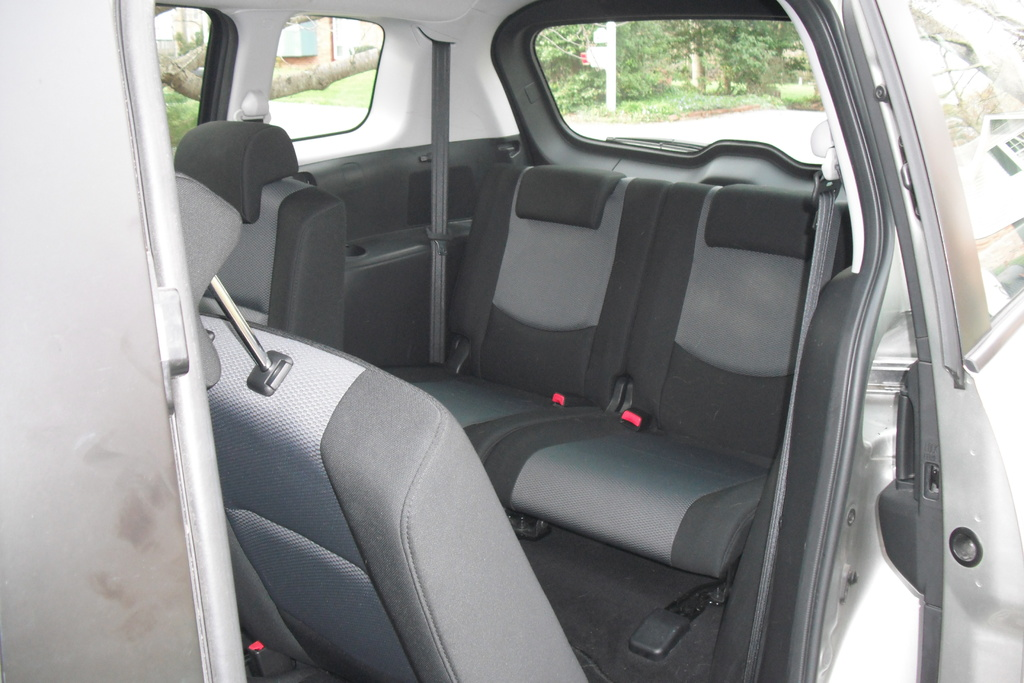Car: (117, 0, 1003, 664)
